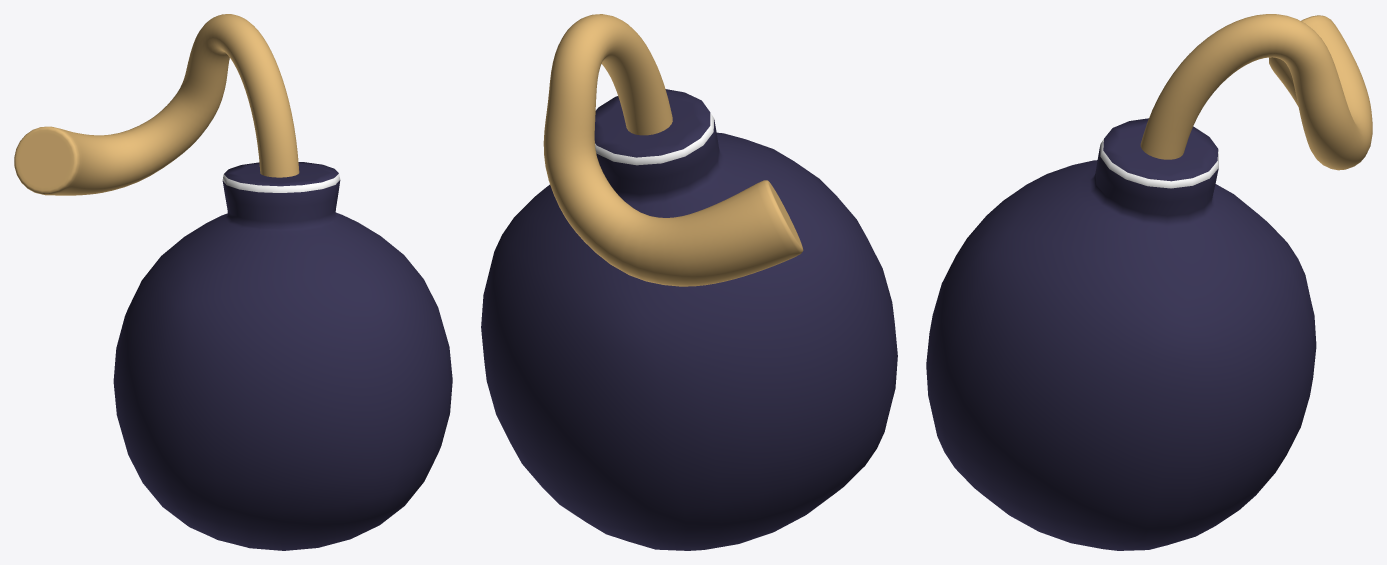
File: bomb.fbx
3 views of the same model, side by side, from view 1: azimuth 30°, elevation 25°; view 2: azimuth 150°, elevation 25°; view 3: azimuth 270°, elevation 25° (orthographic). The views are drawn at different scales.
Parts seen in each view (by area): view 1: Bomb; view 2: Bomb; view 3: Bomb.
Part boxes in pixels (x1,y1,x2,y2): Bomb: (14,14,452,550); Bomb: (481,14,897,550); Bomb: (926,14,1372,550).
Bounding box in the file's own units: 59.9 × 81.05 × 62.76.
